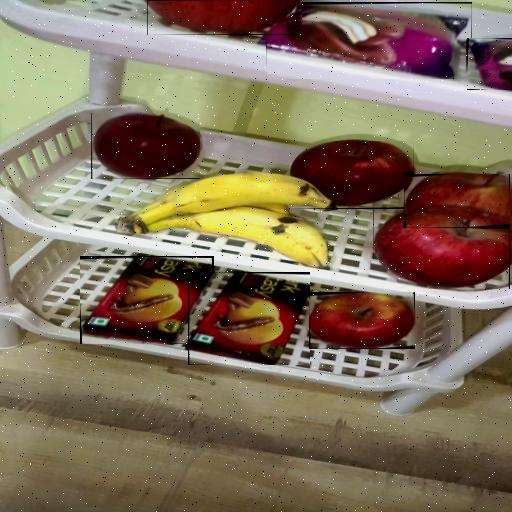Apple: (373, 207, 510, 289), (290, 141, 414, 209), (91, 113, 200, 179), (309, 292, 415, 349), (404, 174, 510, 228), (147, 0, 302, 35)
Choco Fills: (80, 256, 214, 344), (188, 272, 310, 365)
Choco Pie: (266, 2, 472, 79), (467, 38, 512, 90)
